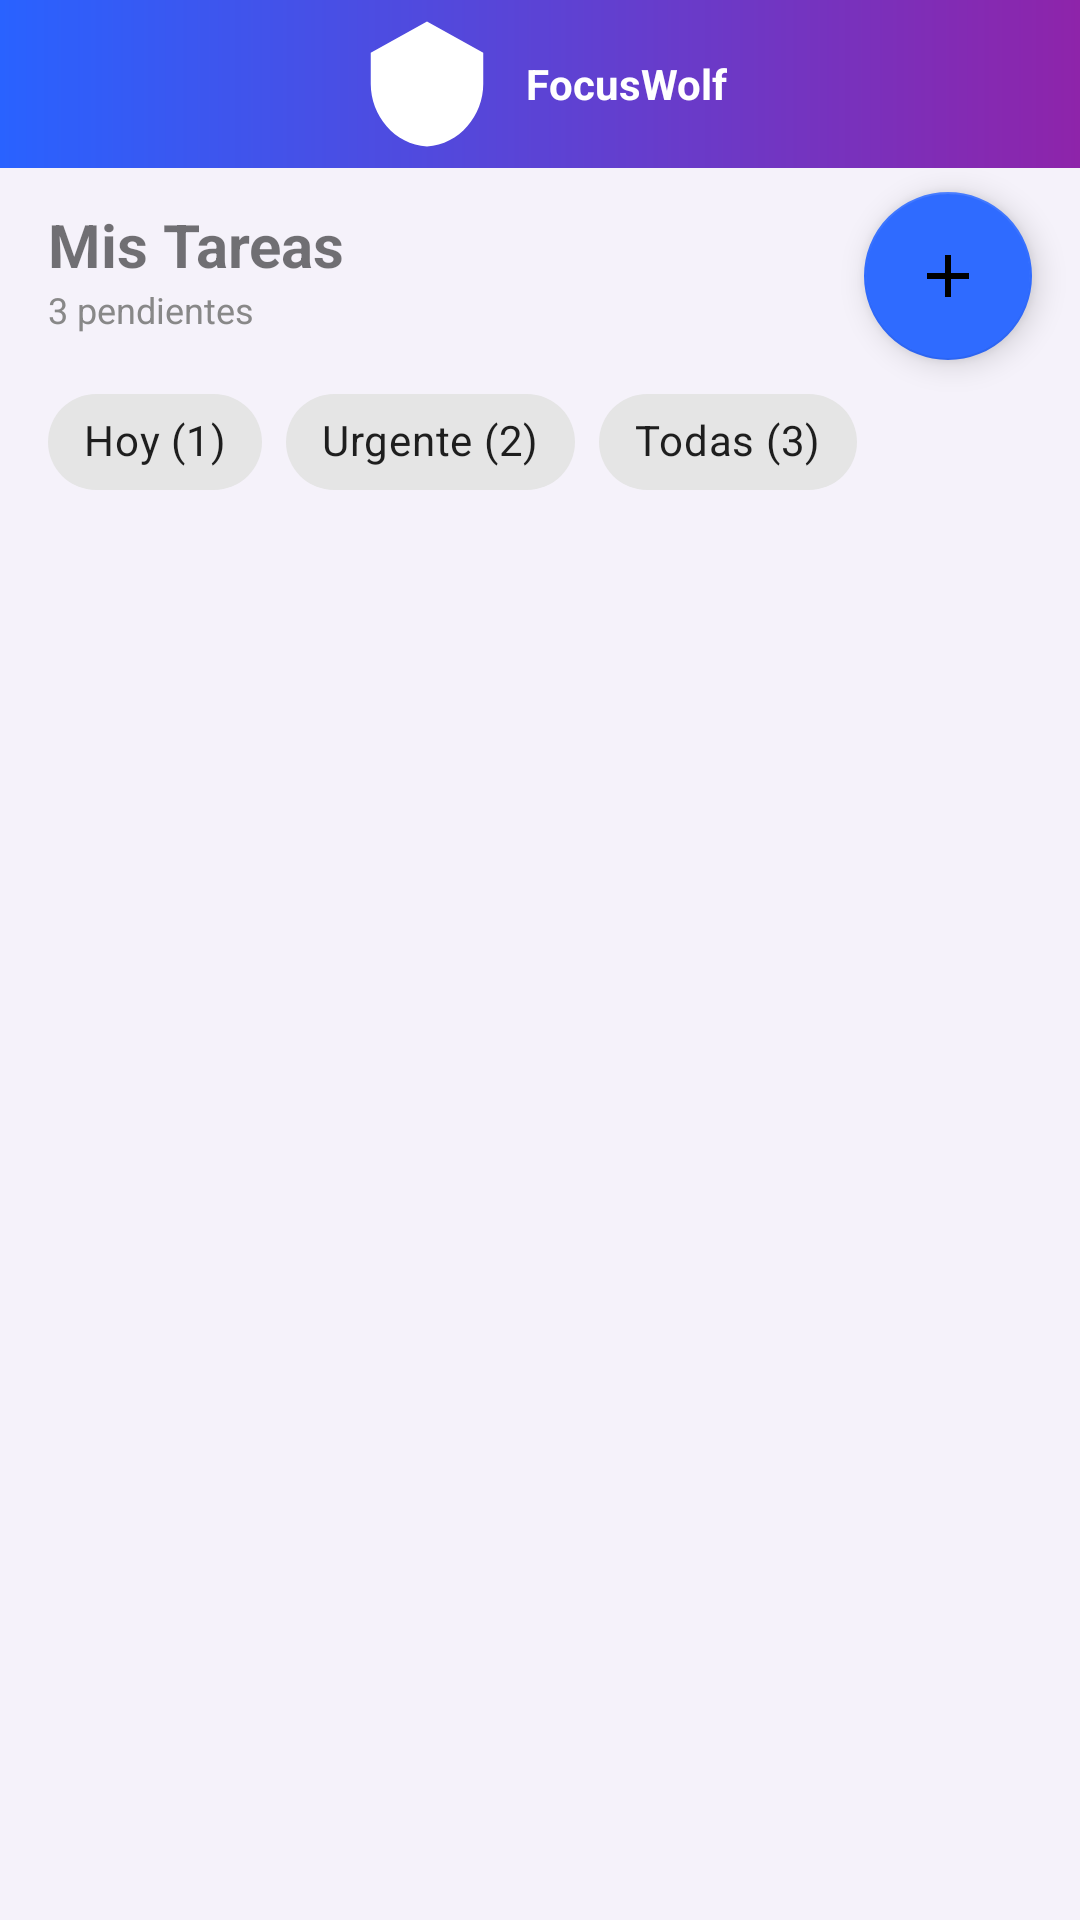

Screen size 1080*1920. Icon name, then its center in pixels as point (x, y):
add: point (948, 276)
